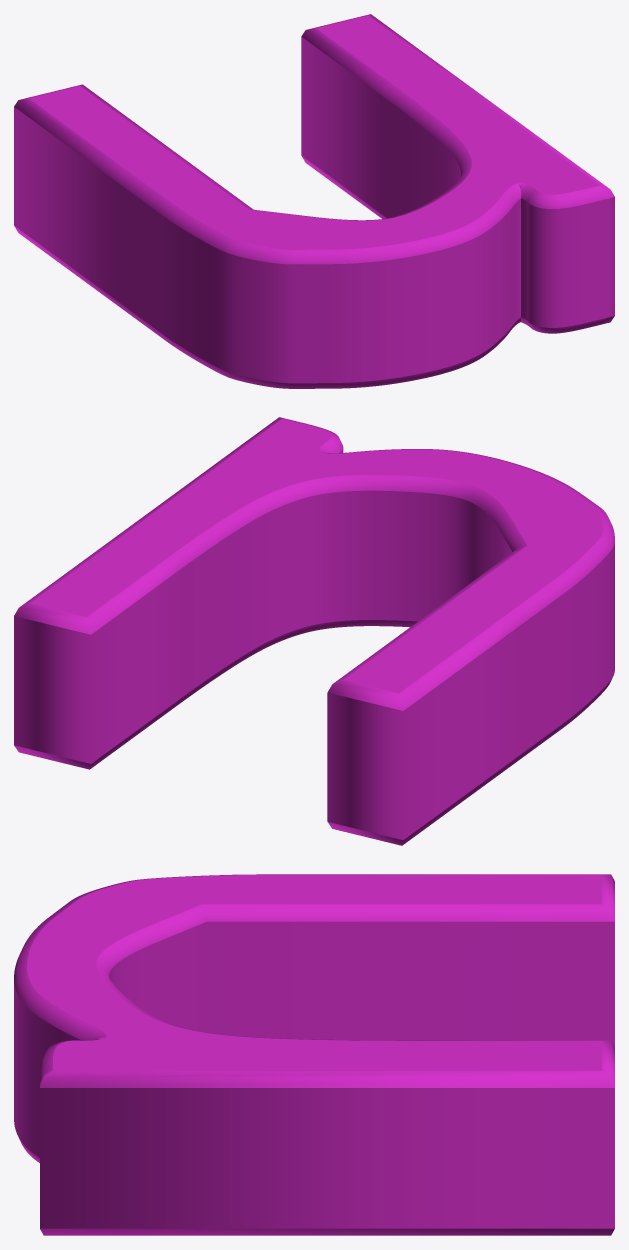
File: Blocky_Letter_n.fbx
The picture shows the model from 3 angles, top to bottom: view 1: azimuth 30°, elevation 25°; view 2: azimuth 150°, elevation 25°; view 3: azimuth 270°, elevation 25°; orthographic projection. The views are drawn at different scales.
Parts seen in each view (by area): view 1: BlockyLetter_n; view 2: BlockyLetter_n; view 3: BlockyLetter_n.
Boxes of the visible parts, left/top/right/bottom form: BlockyLetter_n: left=14, top=14, right=614, bottom=388; BlockyLetter_n: left=14, top=417, right=614, bottom=845; BlockyLetter_n: left=14, top=874, right=614, bottom=1235.
Size of the model in its own units: 0.3783 by 0.14 by 0.4644.
